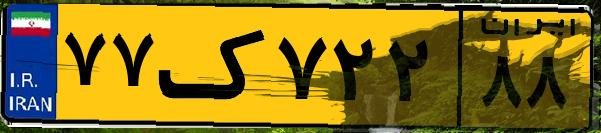2: (385, 28, 445, 110), (330, 28, 385, 110)
7: (270, 28, 330, 110), (57, 26, 110, 100), (110, 28, 158, 98)
8: (475, 38, 525, 113), (525, 38, 570, 115)
ک: (158, 12, 270, 120)
